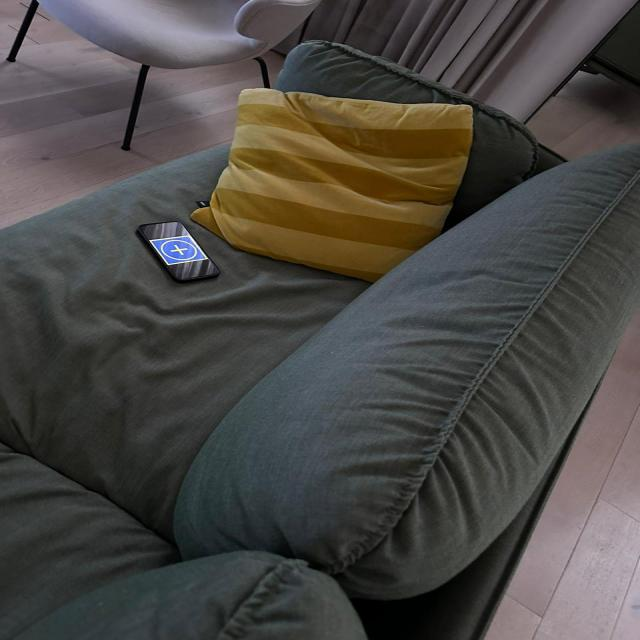Marker: (148, 235, 210, 266)
